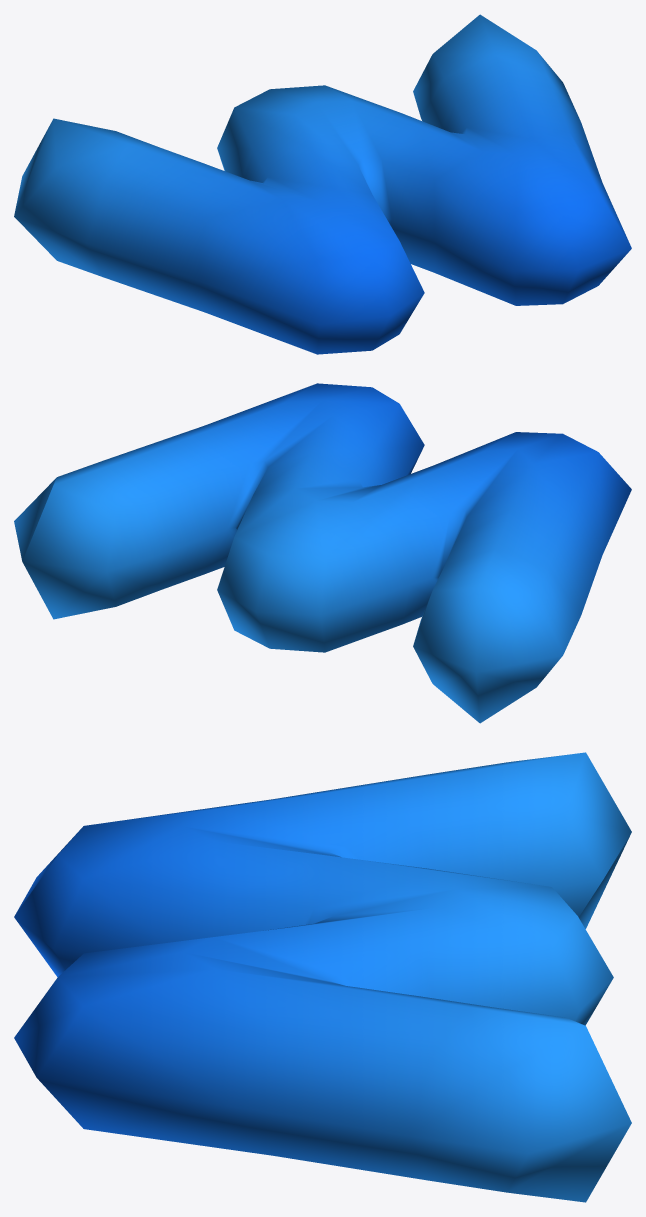
Rendered from CartoonFont_W.FBX.
3 views of the same model, one above another, from view 1: azimuth 30°, elevation 25°; view 2: azimuth 150°, elevation 25°; view 3: azimuth 270°, elevation 25° (orthographic). The views are drawn at different scales.
Parts seen in each view (by area): view 1: W; view 2: W; view 3: W.
Part boxes in pixels (x1,y1,x2,y2): W: (14,14,631,354); W: (14,383,631,723); W: (14,752,631,1202).
Size of the model in its own units: 42.21 by 9.87 by 31.3.
1 material, 1 textured.
